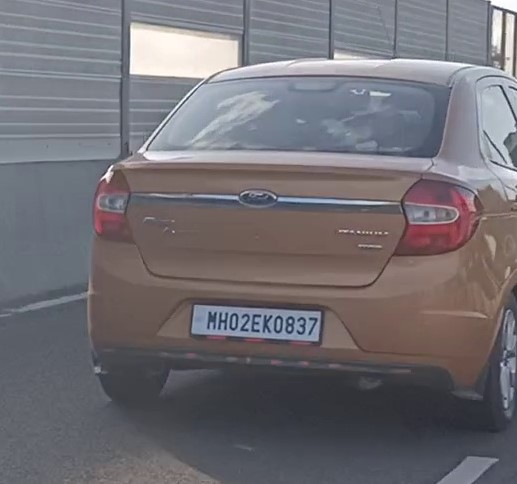MH02EK0837: (188, 302, 325, 344)
